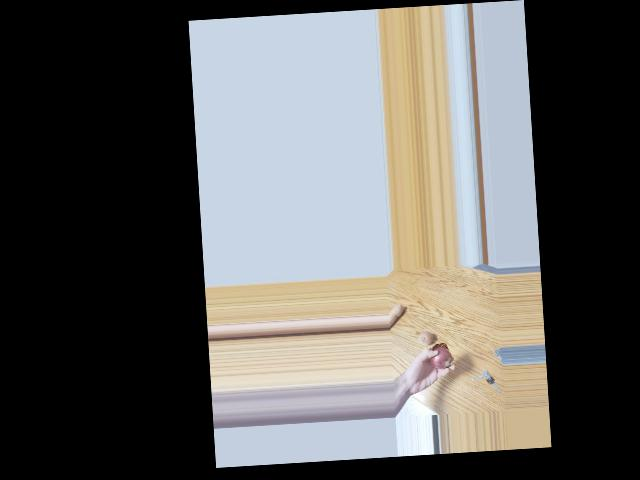onion: (431, 347, 452, 368)
